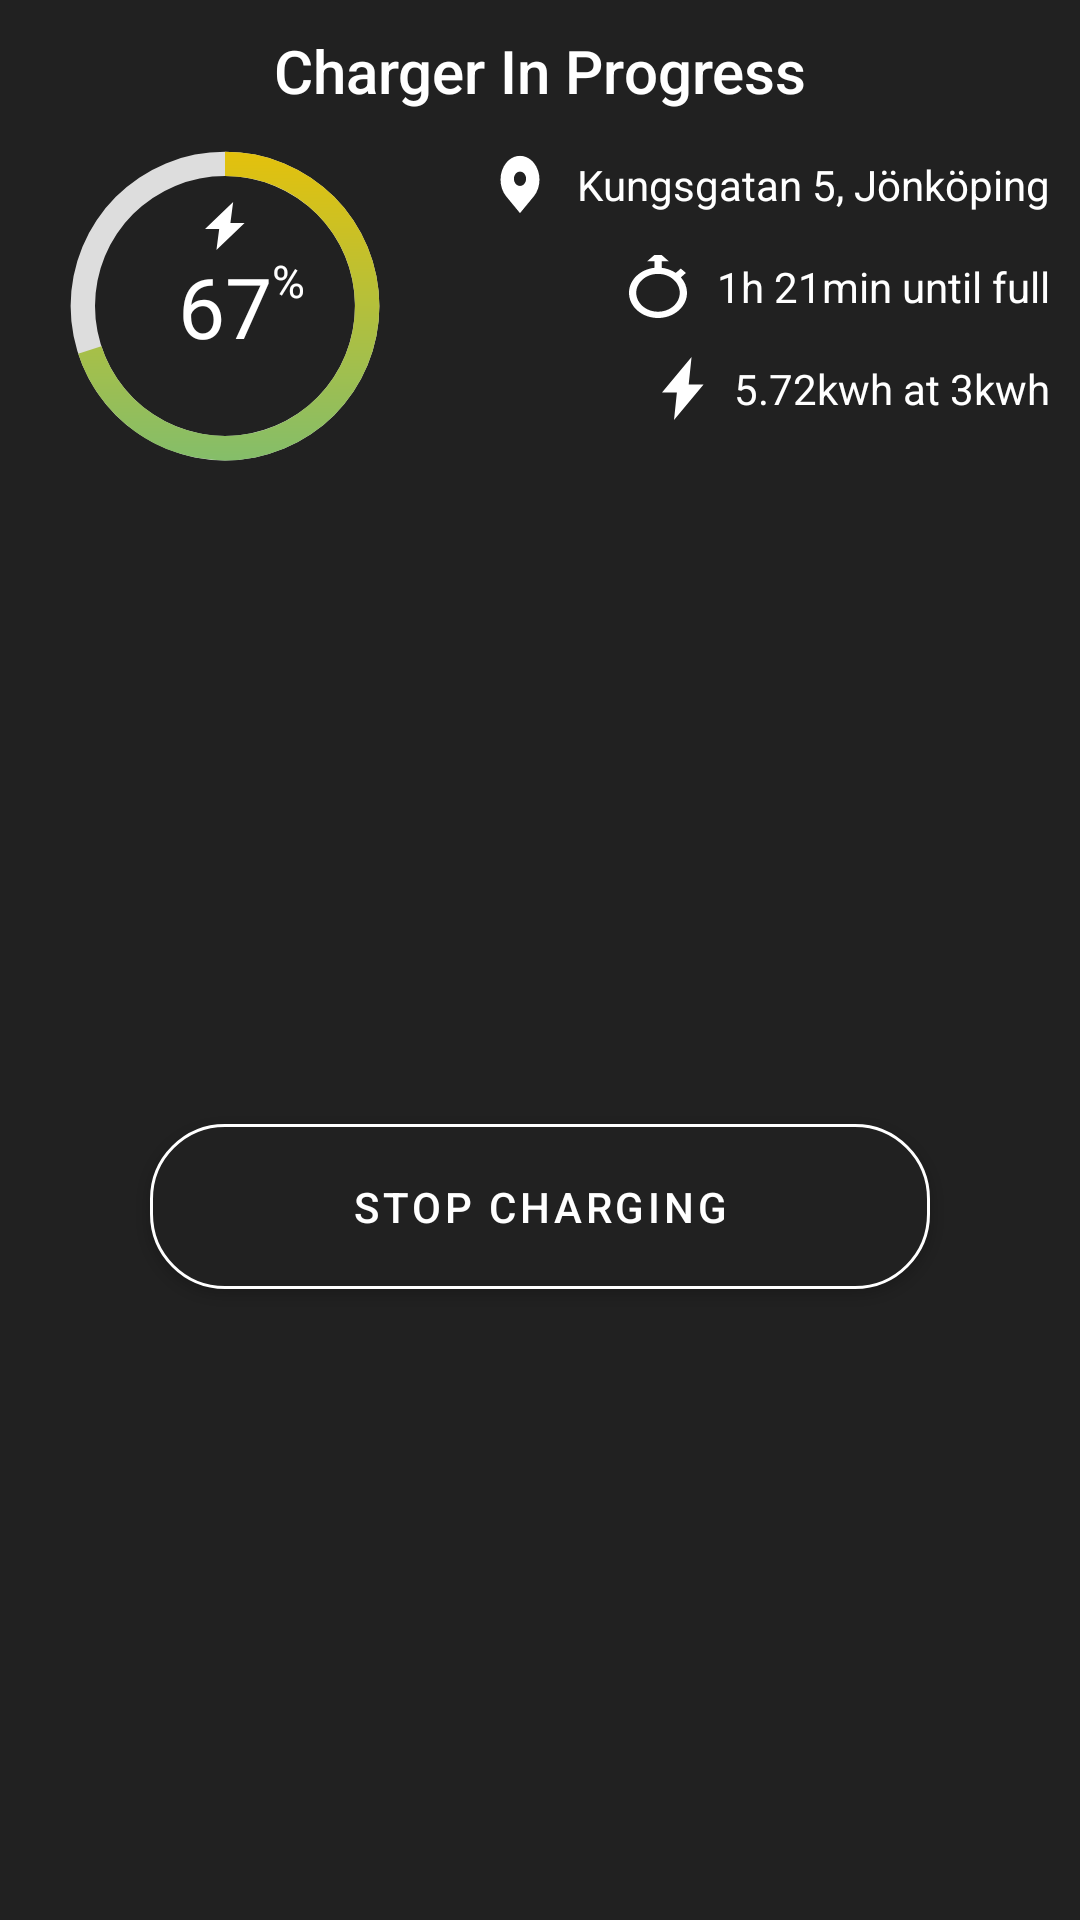

Screen size 1080px x 1920px. Icon name, then its center in pixels as point (x, y):
clock: point (658, 286)
lightning: point (225, 226), point (683, 388)
position pin: point (520, 184)
